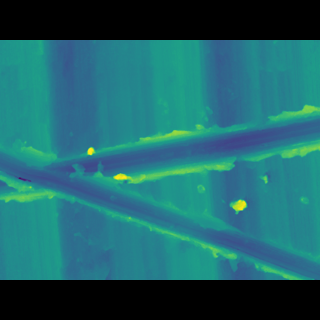Loch: (0, 121, 320, 250)
